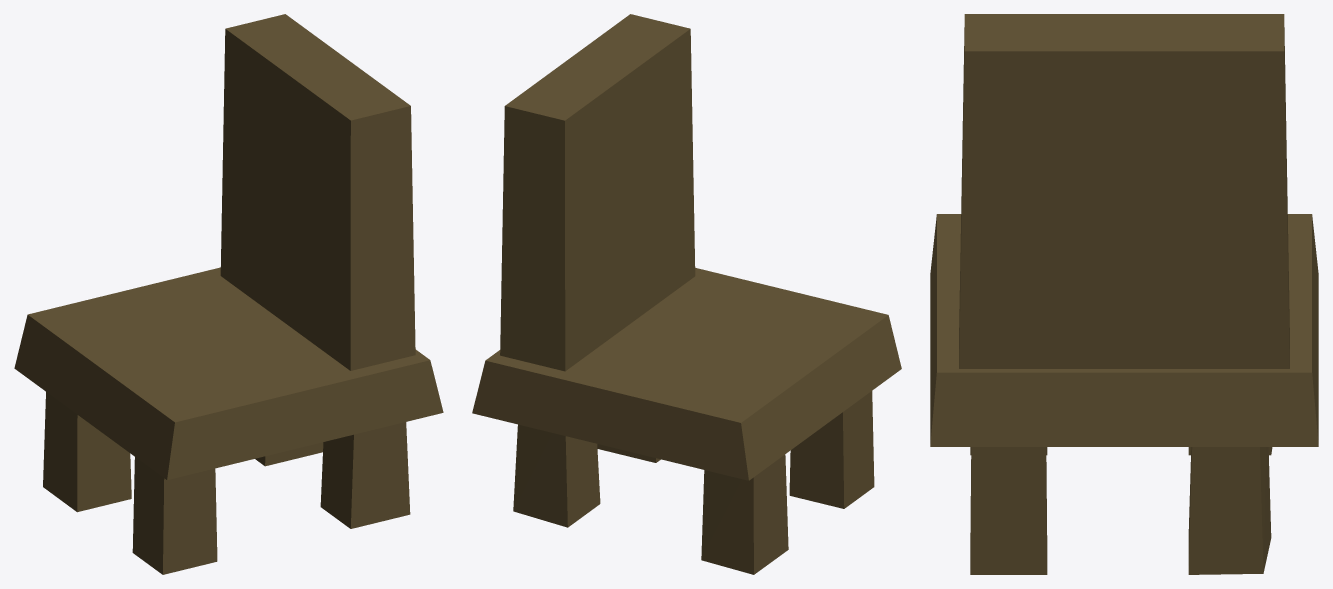
File: Chair 01.FBX
3 views of the same model, side by side, from view 1: azimuth 30°, elevation 25°; view 2: azimuth 150°, elevation 25°; view 3: azimuth 270°, elevation 25° (orthographic). The views are drawn at different scales.
Visible parts, largest first — view 1: Chair 01; view 2: Chair 01; view 3: Chair 01.
Part boxes in pixels (bbox=[...]): Chair 01: bbox=[14, 14, 443, 574]; Chair 01: bbox=[472, 14, 901, 574]; Chair 01: bbox=[930, 14, 1318, 574].
Size of the model in its own units: 75.77 by 108 by 72.47.
